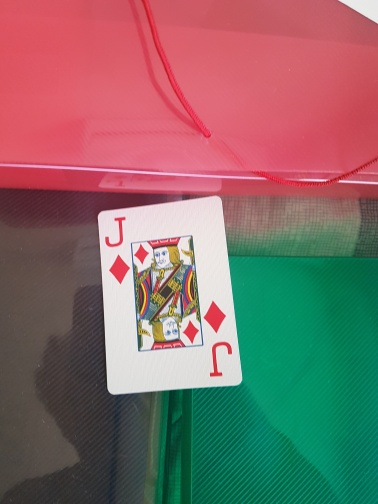jack: (97, 196, 244, 394)
